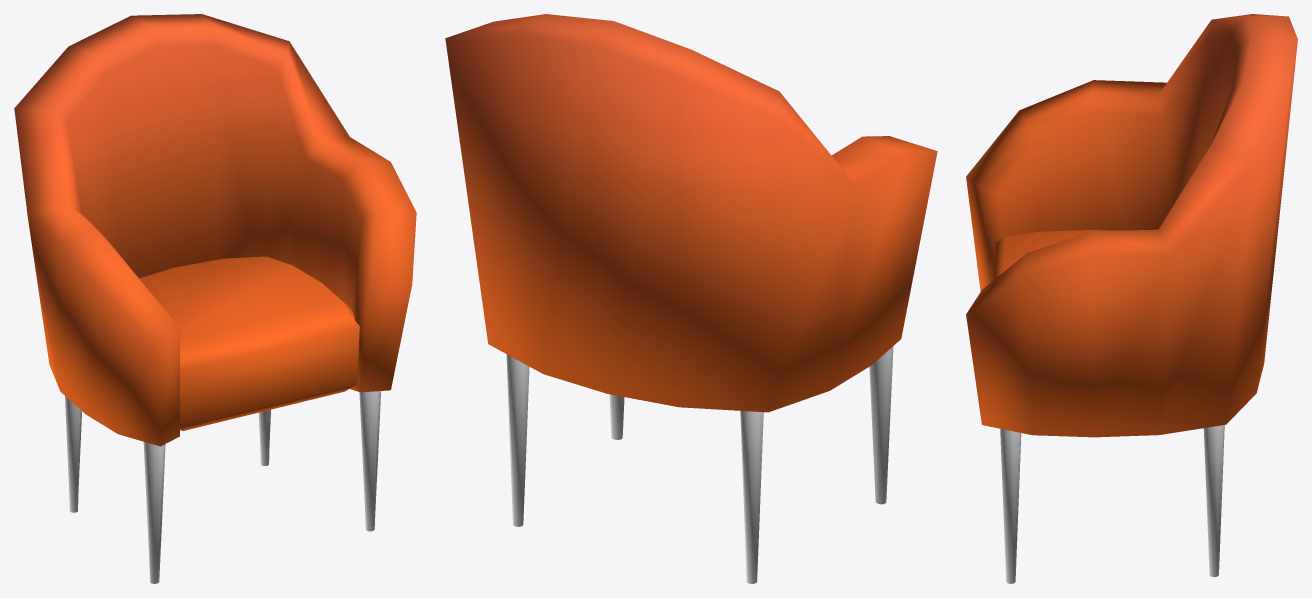
Rendered from SM_Chair_28.fbx.
3 renders of one model, left to right at view 1: azimuth 30°, elevation 25°; view 2: azimuth 150°, elevation 25°; view 3: azimuth 270°, elevation 25°, orthographic. The views are drawn at different scales.
Visible parts, largest first — view 1: SM_Chair_28; view 2: SM_Chair_28; view 3: SM_Chair_28.
Part boxes in pixels (x1=…): SM_Chair_28: x1=14, y1=14, x2=416, y2=583; SM_Chair_28: x1=445, y1=14, x2=937, y2=583; SM_Chair_28: x1=966, y1=14, x2=1297, y2=583.
Bounding box in the file's own units: 83.34 × 107 × 65.96.
1 material, 1 textured.
